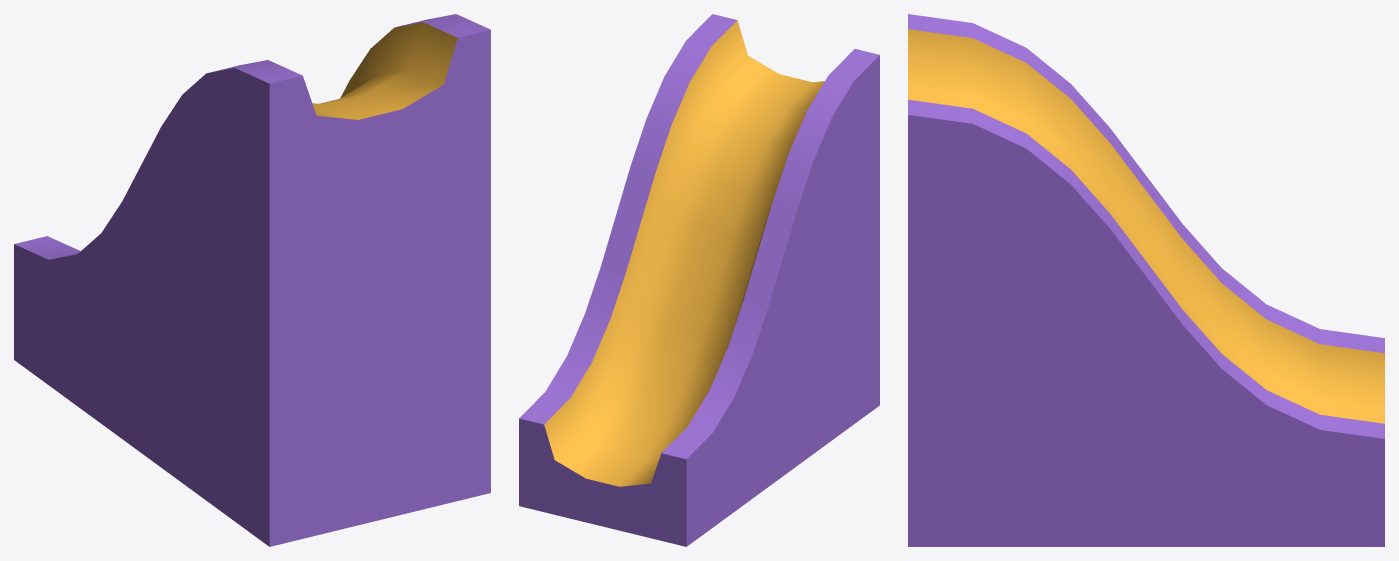
Rendered from kenney-marble-ramp-long-solid-d.glb.
The picture shows the model from 3 angles, left to right: view 1: azimuth 30°, elevation 25°; view 2: azimuth 150°, elevation 25°; view 3: azimuth 270°, elevation 25°; orthographic projection. The views are drawn at different scales.
Visible parts, largest first — view 1: ramp-long-solid-d; view 2: ramp-long-solid-d; view 3: ramp-long-solid-d.
Part boxes in pixels (<box>): ramp-long-solid-d: <box>14,14,490,546</box>; ramp-long-solid-d: <box>519,14,879,546</box>; ramp-long-solid-d: <box>908,14,1384,546</box>.
Size of the model in its own units: 1 by 2 by 2.
Materials: 1 (1 with a texture image).
